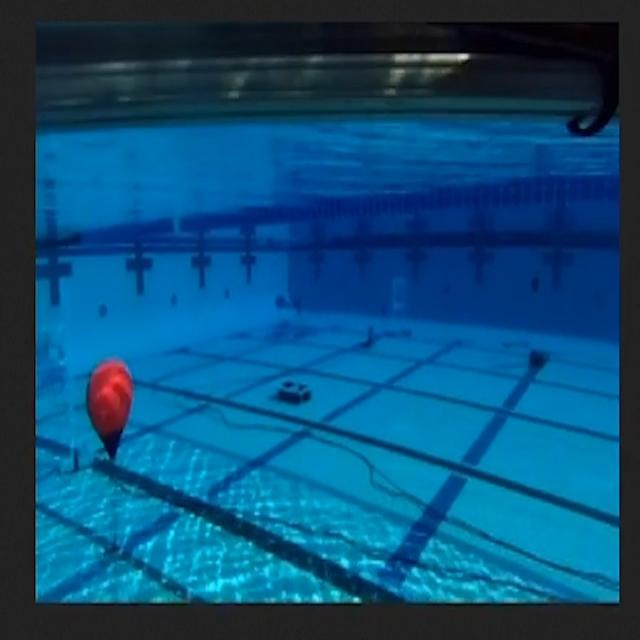Buoy: (82, 348, 142, 473)
